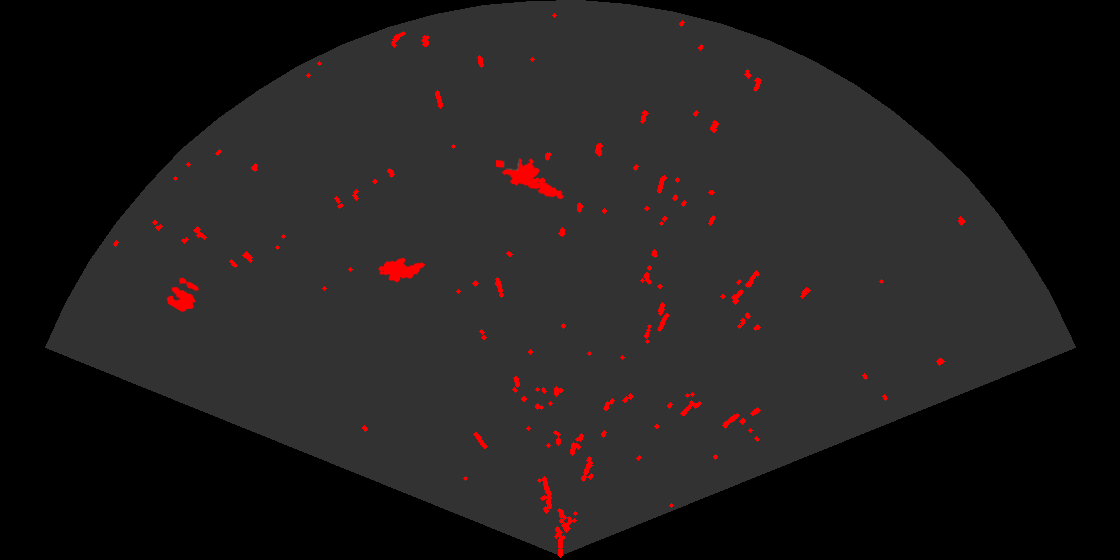AUV: (377, 256, 427, 284)
ball: (165, 276, 201, 314)
frogman: (496, 157, 566, 201)
